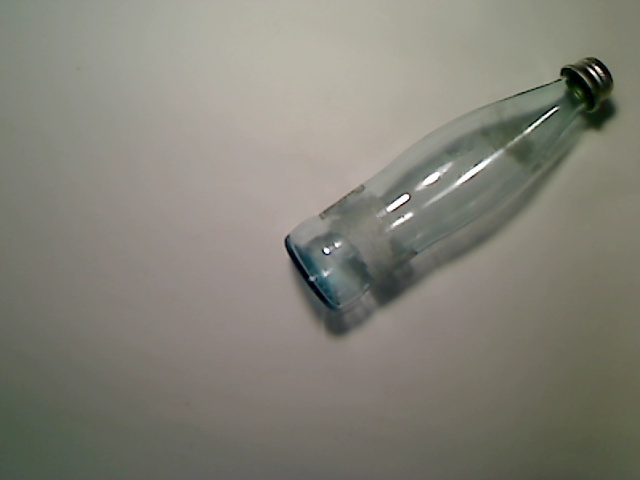bottle: (283, 55, 614, 316)
